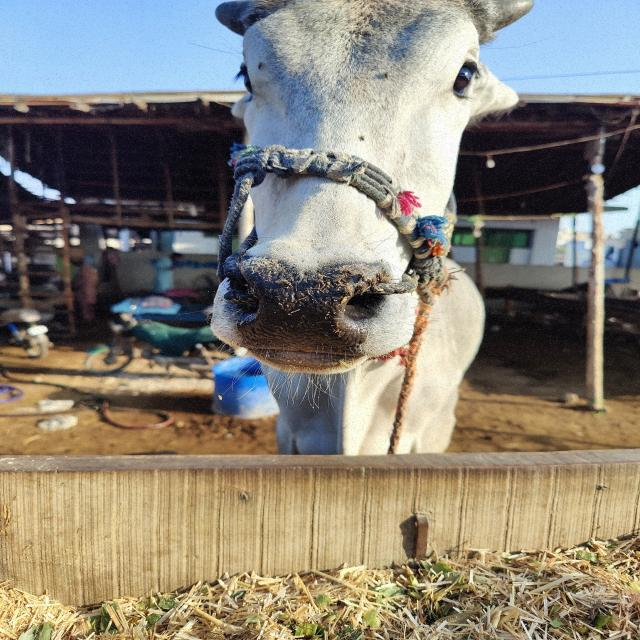muzzles: (222, 246, 398, 364)
